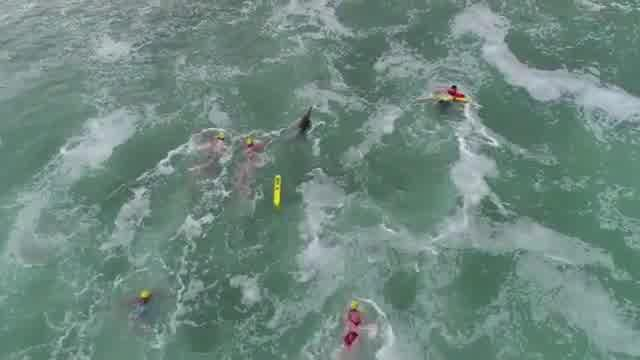swimmer: (334, 299, 363, 355), (438, 80, 467, 108)
